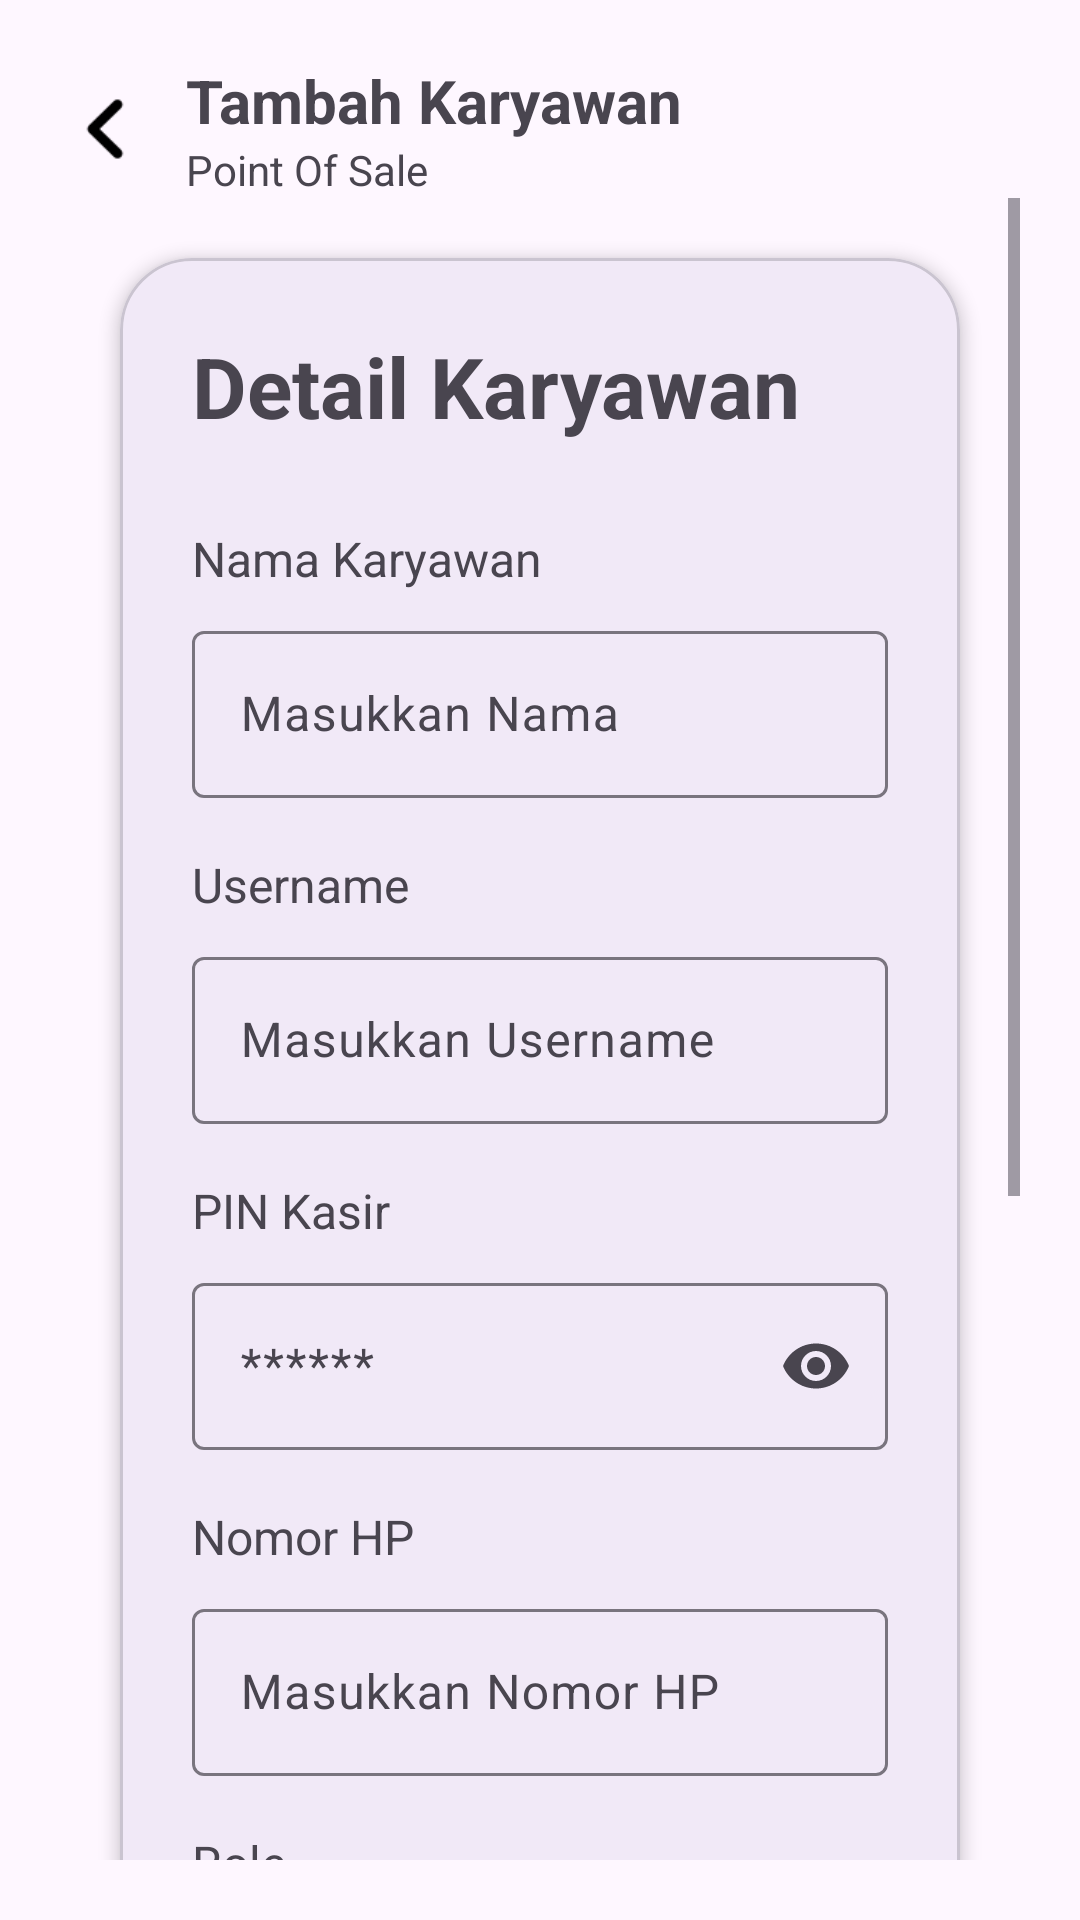

Screen size 1080px×1920px. Icon name, then its center in pixels as (x=x, y=y):
kembali: (x=105, y=129)
